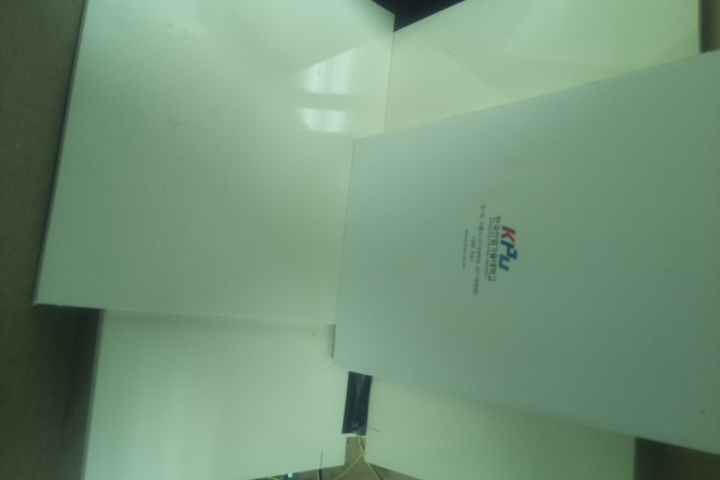book: (329, 46, 720, 458)
